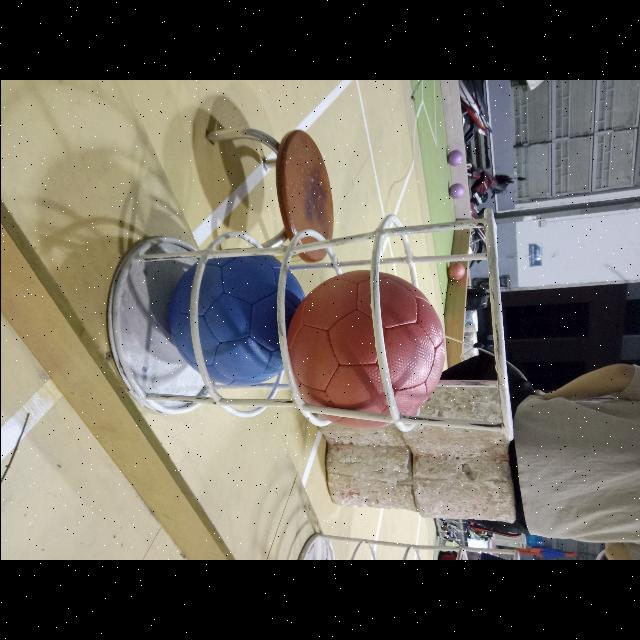B: (168, 251, 304, 387)
R: (287, 270, 445, 432)
S: (103, 205, 515, 448), (289, 532, 525, 560)
